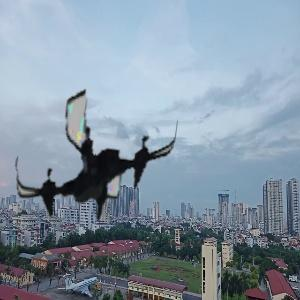drone: (16, 84, 175, 243)
